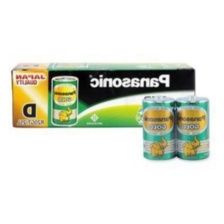battery: (138, 93, 177, 163), (174, 93, 212, 162)
book: (8, 59, 198, 130)
